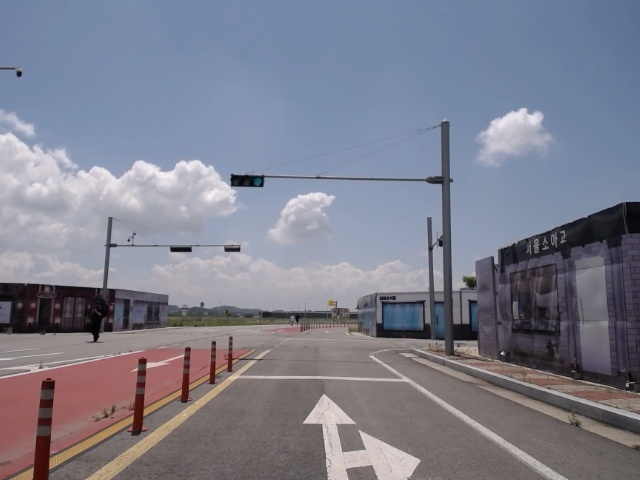green_3: (232, 175, 264, 186)
